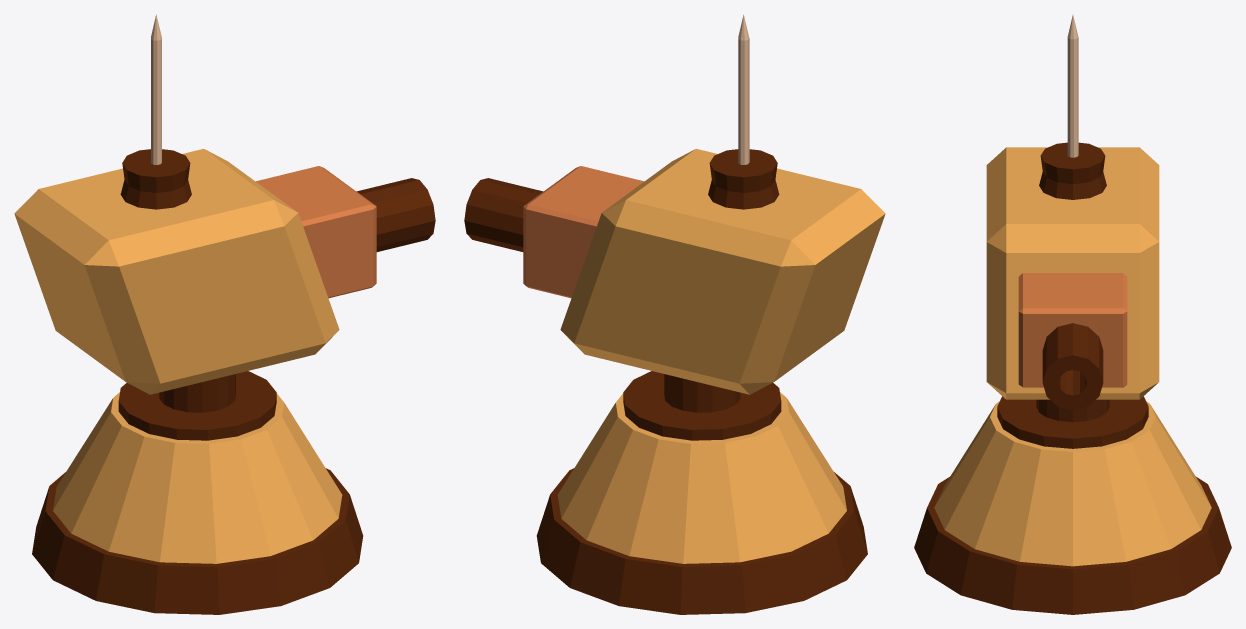
Rendered from kurdanatar.fbx.
The picture shows the model from 3 angles, left to right: view 1: azimuth 30°, elevation 25°; view 2: azimuth 150°, elevation 25°; view 3: azimuth 270°, elevation 25°; orthographic projection. The views are drawn at different scales.
Parts seen in each view (by area): view 1: kurdanatar_ust.001, kurdanatar_alt.001; view 2: kurdanatar_ust.001, kurdanatar_alt.001; view 3: kurdanatar_alt.001, kurdanatar_ust.001.
Part boxes in pixels (left/top/right/bottom): kurdanatar_ust.001: left=14, top=14, right=435, bottom=394; kurdanatar_alt.001: left=32, top=371, right=363, bottom=614; kurdanatar_ust.001: left=464, top=14, right=885, bottom=394; kurdanatar_alt.001: left=536, top=371, right=867, bottom=614; kurdanatar_alt.001: left=914, top=396, right=1231, bottom=614; kurdanatar_ust.001: left=986, top=15, right=1159, bottom=410.
Size of the model in its own units: 256 by 357 by 200.
2 materials, 2 textured.
